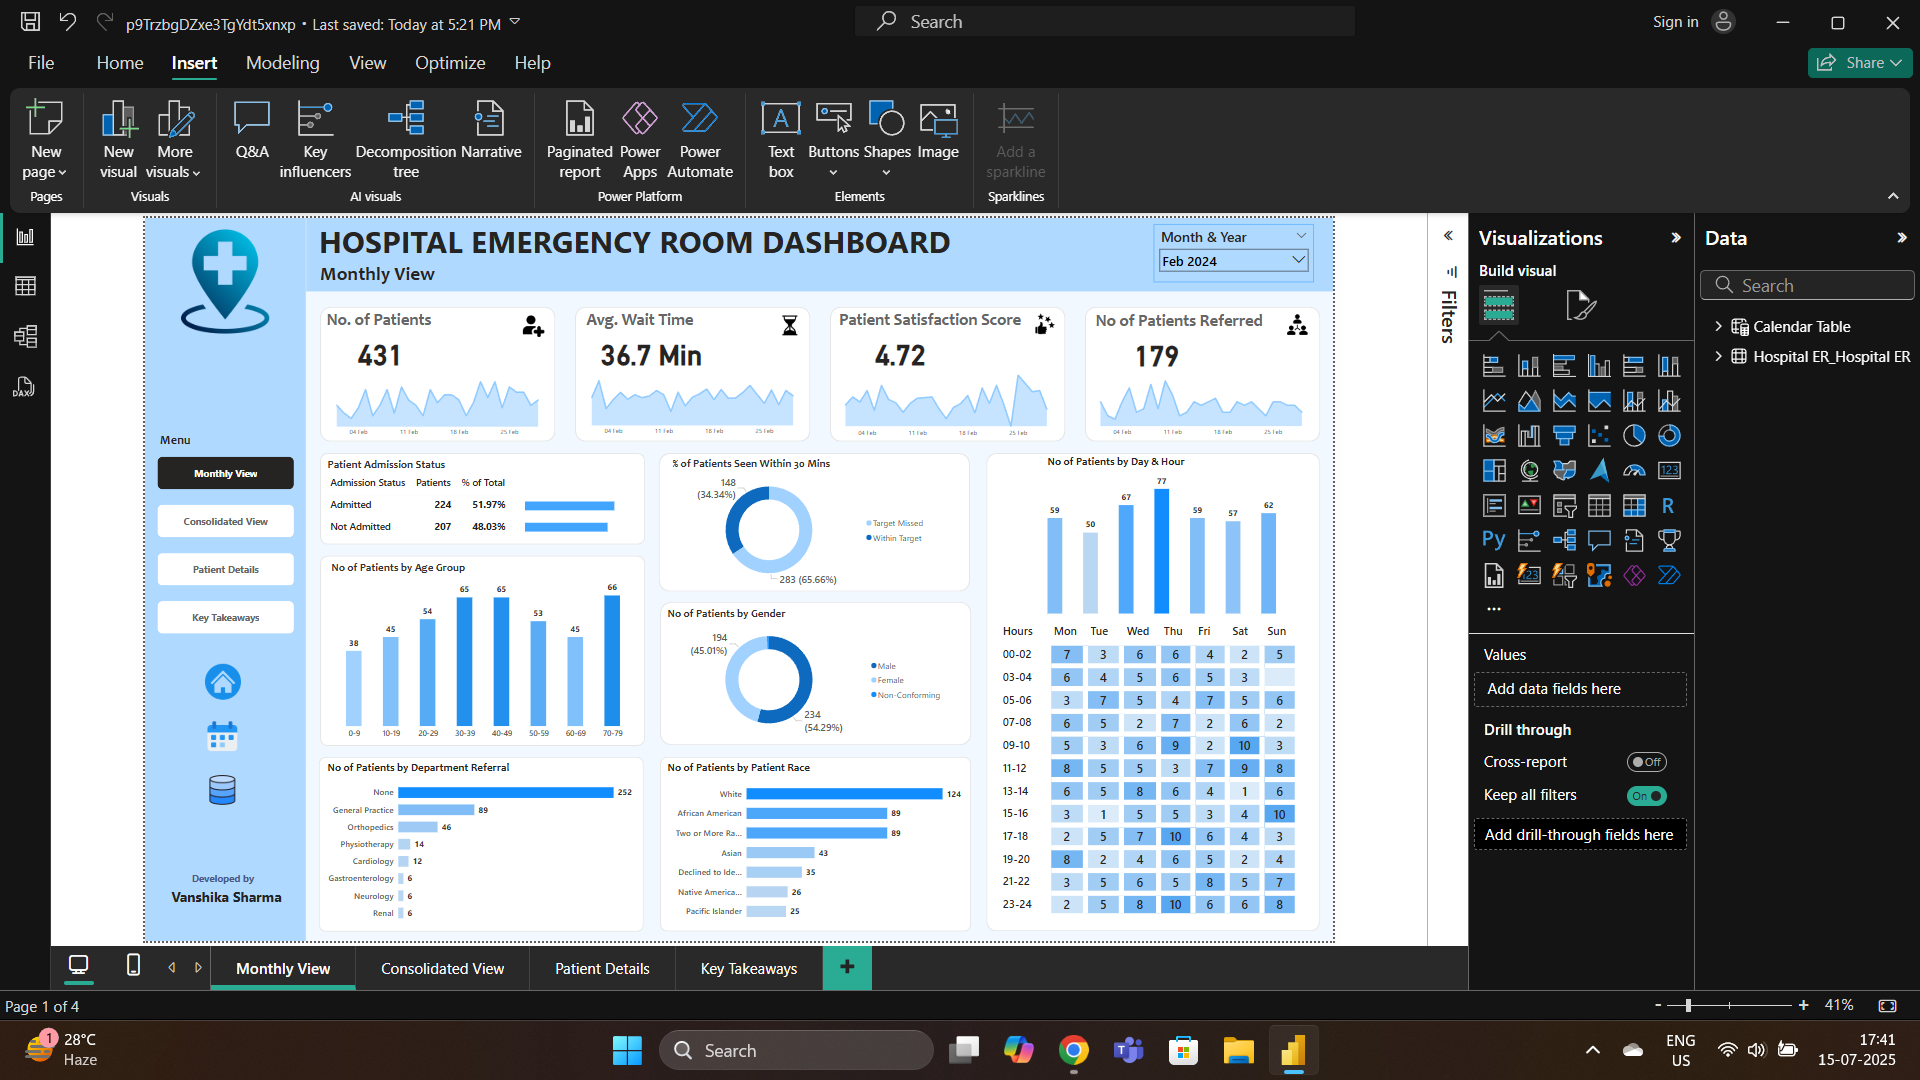

The page's visual inventory and layout, read from the dashboard file:
{"tool":"powerbi","page":{"name":"Monthly View","canvas":[2300,1400],"ordinal":0},"visuals":[{"type":"shape","box":[338.5,171.3,455.5,261.2],"z":0},{"type":"shape","box":[1324.7,171.3,455.5,261.2],"z":1000},{"type":"shape","box":[0,0,311.3,1399.9],"z":2000},{"type":"shape","box":[831.6,171.3,455.5,261.2],"z":3000},{"type":"card","fields":{"Values":["Hospital ER_Hospital ER.No of Patients"]},"box":[374,225.7,160.9,66.9],"z":4000},{"type":"card","fields":{"Values":["Hospital ER_Hospital ER.Avg Wait Time"]},"box":[869.2,225.7,223.6,66.9],"z":5000},{"type":"card","fields":{"Values":["Avg(Hospital ER_Hospital ER.Patient Satisfaction Score)"]},"box":[1381.4,225.6,160.9,66.9],"z":6000},{"type":"shape","box":[1817.8,171.3,455.5,261.2],"z":7000},{"type":"card","fields":{"Values":["Hospital ER_Hospital ER.Measure"]},"box":[1876.7,227.6,160.9,66.9],"z":8000},{"type":"shape","box":[311.3,0,1989.1,142.1],"z":9000},{"type":"slicer","fields":{"Values":["Calendar Table.Month & Year"]},"box":[1950.8,12.2,309.8,112.1],"z":10000},{"type":"textbox","box":[339.2,171.3,227.8,56.5],"z":11000},{"type":"textbox","box":[841.3,171.3,231.1,56.5],"z":12000},{"type":"textbox","box":[1331.2,172,377.5,55.8],"z":13000},{"type":"textbox","box":[1828.2,173.4,344.8,56.4],"z":14000},{"type":"areaChart","fields":{"Category":["Calendar Table.Date.Variation.Date Hierarchy.Year","Calendar Table.Date.Variation.Date Hierarchy.Quarter","Calendar Table.Date.Variation.Date Hierarchy.Month","Calendar Table.Date.Variation.Date Hierarchy.Day"],"Y":["Hospital ER_Hospital ER.No of Patients"]},"box":[348.4,288.1,435.5,145.2],"z":15000},{"type":"areaChart","fields":{"Category":["Calendar Table.Date.Variation.Date Hierarchy.Year","Calendar Table.Date.Variation.Date Hierarchy.Quarter","Calendar Table.Date.Variation.Date Hierarchy.Month","Calendar Table.Date.Variation.Date Hierarchy.Day"],"Y":["Avg(Hospital ER_Hospital ER.Patient Waittime)"]},"box":[842.1,285.9,435.5,145.2],"z":16000},{"type":"areaChart","fields":{"Category":["Calendar Table.Date.Variation.Date Hierarchy.Year","Calendar Table.Date.Variation.Date Hierarchy.Quarter","Calendar Table.Date.Variation.Date Hierarchy.Month","Calendar Table.Date.Variation.Date Hierarchy.Day"],"Y":["Avg(Hospital ER_Hospital ER.Patient Satisfaction Score)"]},"box":[1333.4,290.4,435.5,142.9],"z":17000},{"type":"areaChart","fields":{"Category":["Calendar Table.Date.Variation.Date Hierarchy.Year","Calendar Table.Date.Variation.Date Hierarchy.Quarter","Calendar Table.Date.Variation.Date Hierarchy.Month","Calendar Table.Date.Variation.Date Hierarchy.Day"],"Y":["Hospital ER_Hospital ER.Measure"]},"box":[1827.1,288.1,435.5,145.2],"z":18000},{"type":"textbox","box":[331.7,0,1281,88.9],"z":19000},{"type":"image","box":[1222.3,183.9,52.2,48.1],"z":20000},{"type":"image","box":[724.8,183.1,52.8,51.2],"z":21000},{"type":"image","box":[2198,181.8,62.7,50],"z":22000},{"type":"image","box":[1713.3,179.7,58.5,52.2],"z":23000},{"type":"shape","box":[338.9,455,629.1,177.3],"z":24000},{"type":"shape","box":[994.7,455,602.5,268.3],"z":25000},{"type":"shape","box":[1626.9,455,646.4,925.6],"z":26000},{"type":"shape","box":[996.2,743.7,602.5,277.7],"z":27000},{"type":"donutChart","title":"% of Patients Seen Within 30 Mins","fields":{"Y":["Hospital ER_Hospital ER.No of Patients"],"Category":["Hospital ER_Hospital ER.Waittime Status"]},"box":[1016.6,461,504.4,257.6],"z":28000},{"type":"donutChart","title":"No of Patients by Gender","fields":{"Y":["Hospital ER_Hospital ER.No of Patients"],"Category":["Hospital ER_Hospital ER.Full Gender"]},"box":[1007.2,753.1,547.5,257.3],"z":29000},{"type":"shape","box":[338.9,652.7,629.1,368.7],"z":30000},{"type":"pivotTable","title":"Patient Admission Status","fields":{"Rows":["Hospital ER_Hospital ER.Admission Status"],"Values":["Hospital ER_Hospital ER.No of Patients1","Hospital ER_Hospital ER.No of Patients"]},"box":[347.9,465.5,610,158.3],"z":31000},{"type":"barChart","fields":{"Category":["Hospital ER_Hospital ER.Admission Status"],"Y":["Hospital ER_Hospital ER.No of Patients"]},"box":[729.5,514.6,241.6,120.8],"z":32000},{"type":"clusteredColumnChart","fields":{"Category":["Hospital ER_Hospital ER.Age Group"],"Y":["Hospital ER_Hospital ER.No of Patients"]},"box":[354.6,662.7,599.3,354.6],"z":33000},{"type":"shape","box":[337.3,1041.7,629.1,338.9],"z":34000},{"type":"clusteredBarChart","fields":{"Category":["Hospital ER_Hospital ER.Department Referral"],"Y":["Hospital ER_Hospital ER.No of Patients"]},"box":[348.3,1049.6,602.5,324.8],"z":35000},{"type":"shape","box":[996.5,1043,602.2,338.4],"z":36000},{"type":"clusteredBarChart","fields":{"Y":["Hospital ER_Hospital ER.No of Patients"],"Category":["Hospital ER_Hospital ER.Patient Race"]},"box":[1005.8,1049.2,578.9,324.4],"z":37000},{"type":"pivotTable","fields":{"Columns":["Calendar Table.Day Name"],"Rows":["Hospital ER_Hospital ER.Waittime Interval"],"Values":["Hospital ER_Hospital ER.No of Patients"]},"box":[1649.4,776.5,606.9,583.6],"z":38000},{"type":"clusteredColumnChart","title":"No of Patients by Day & Hour","fields":{"Category":["Calendar Table.Day Name"],"Y":["Hospital ER_Hospital ER.No of Patients"]},"box":[1741.5,457.2,454.7,314.4],"z":39000},{"type":"textbox","box":[333.7,79.2,411.3,59],"z":40000},{"type":"pageNavigator","box":[24.2,462.3,264.1,343.1],"z":41000},{"type":"textbox","box":[24.2,409.1,99.9,48.3],"z":42000},{"type":"textbox","box":[77.3,1261.1,146.6,37],"z":43000},{"type":"textbox","box":[25.8,1290.1,262.5,62.8],"z":44000},{"type":"textbox","box":[29,1336.8,257.7,45.1],"z":45000},{"type":"image","box":[110.1,854.1,79.5,87.7],"z":46000},{"type":"image","box":[116.2,966.2,67.3,75.4],"z":47000},{"type":"image","box":[116.2,1068.1,67.3,75.4],"z":48000},{"type":"image","box":[118.2,1166,65.2,65.2],"z":49000},{"type":"image","box":[46.9,17.9,218.9,212.2],"z":50000}]}

Visuals, with their boxes on the page's 2300x1400 design canvas (x1, y1, x2, y2). These are canvas units, not pixel positions in the 1920x1080 screenshot, which may show the page scaled, cropped or inside an application window:
shape: (left=338, top=171, right=794, bottom=432)
shape: (left=1325, top=171, right=1780, bottom=432)
shape: (left=0, top=0, right=311, bottom=1400)
shape: (left=832, top=171, right=1287, bottom=432)
card - Hospital ER_Hospital ER.No of Patients: (left=374, top=226, right=535, bottom=293)
card - Hospital ER_Hospital ER.Avg Wait Time: (left=869, top=226, right=1093, bottom=293)
card - Avg(Hospital ER_Hospital ER.Patient Satisfaction Score): (left=1381, top=226, right=1542, bottom=292)
shape: (left=1818, top=171, right=2273, bottom=432)
card - Hospital ER_Hospital ER.Measure: (left=1877, top=228, right=2038, bottom=294)
shape: (left=311, top=0, right=2300, bottom=142)
slicer - Calendar Table.Month & Year: (left=1951, top=12, right=2261, bottom=124)
textbox: (left=339, top=171, right=567, bottom=228)
textbox: (left=841, top=171, right=1072, bottom=228)
textbox: (left=1331, top=172, right=1709, bottom=228)
textbox: (left=1828, top=173, right=2173, bottom=230)
areaChart - Calendar Table.Date.Variation.Date Hierarchy.Year x Calendar Table.Date.Variation.Date Hierarchy.Quarter: (left=348, top=288, right=784, bottom=433)
areaChart - Calendar Table.Date.Variation.Date Hierarchy.Year x Calendar Table.Date.Variation.Date Hierarchy.Quarter: (left=842, top=286, right=1278, bottom=431)
areaChart - Calendar Table.Date.Variation.Date Hierarchy.Year x Calendar Table.Date.Variation.Date Hierarchy.Quarter: (left=1333, top=290, right=1769, bottom=433)
areaChart - Calendar Table.Date.Variation.Date Hierarchy.Year x Calendar Table.Date.Variation.Date Hierarchy.Quarter: (left=1827, top=288, right=2263, bottom=433)
textbox: (left=332, top=0, right=1613, bottom=89)
image: (left=1222, top=184, right=1274, bottom=232)
image: (left=725, top=183, right=778, bottom=234)
image: (left=2198, top=182, right=2261, bottom=232)
image: (left=1713, top=180, right=1772, bottom=232)
shape: (left=339, top=455, right=968, bottom=632)
shape: (left=995, top=455, right=1597, bottom=723)
shape: (left=1627, top=455, right=2273, bottom=1381)
shape: (left=996, top=744, right=1599, bottom=1021)
"% of Patients Seen Within 30 Mins" donutChart: (left=1017, top=461, right=1521, bottom=719)
"No of Patients by Gender" donutChart: (left=1007, top=753, right=1555, bottom=1010)
shape: (left=339, top=653, right=968, bottom=1021)
"Patient Admission Status" pivotTable: (left=348, top=466, right=958, bottom=624)
barChart - Hospital ER_Hospital ER.Admission Status x Hospital ER_Hospital ER.No of Patients: (left=730, top=515, right=971, bottom=635)
clusteredColumnChart - Hospital ER_Hospital ER.Age Group x Hospital ER_Hospital ER.No of Patients: (left=355, top=663, right=954, bottom=1017)
shape: (left=337, top=1042, right=966, bottom=1381)
clusteredBarChart - Hospital ER_Hospital ER.Department Referral x Hospital ER_Hospital ER.No of Patients: (left=348, top=1050, right=951, bottom=1374)
shape: (left=996, top=1043, right=1599, bottom=1381)
clusteredBarChart - Hospital ER_Hospital ER.No of Patients x Hospital ER_Hospital ER.Patient Race: (left=1006, top=1049, right=1585, bottom=1374)
pivotTable - Calendar Table.Day Name x Hospital ER_Hospital ER.Waittime Interval: (left=1649, top=776, right=2256, bottom=1360)
"No of Patients by Day & Hour" clusteredColumnChart: (left=1742, top=457, right=2196, bottom=772)
textbox: (left=334, top=79, right=745, bottom=138)
pageNavigator: (left=24, top=462, right=288, bottom=805)
textbox: (left=24, top=409, right=124, bottom=457)
textbox: (left=77, top=1261, right=224, bottom=1298)
textbox: (left=26, top=1290, right=288, bottom=1353)
textbox: (left=29, top=1337, right=287, bottom=1382)
image: (left=110, top=854, right=190, bottom=942)
image: (left=116, top=966, right=184, bottom=1042)
image: (left=116, top=1068, right=184, bottom=1144)
image: (left=118, top=1166, right=183, bottom=1231)
image: (left=47, top=18, right=266, bottom=230)
